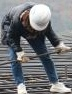boots: (49, 81, 72, 91), (17, 82, 27, 94)
gloves: (54, 40, 71, 53), (15, 49, 30, 62)
hard-hat: (29, 3, 51, 30)
